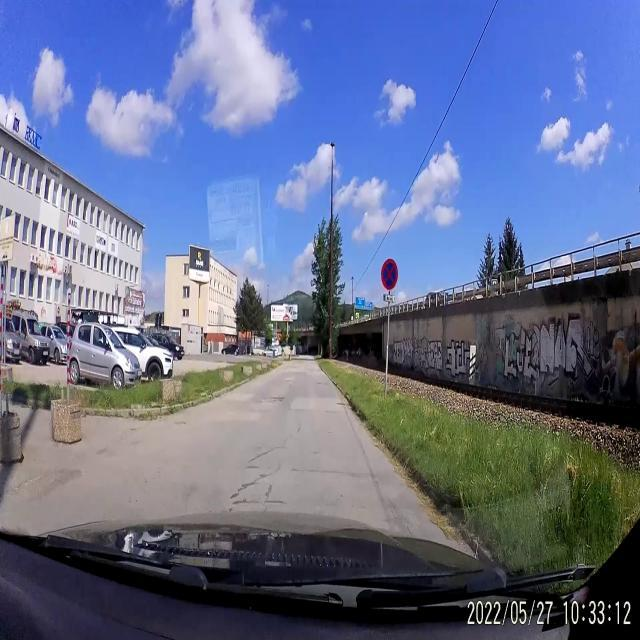Pothole: (258, 392, 288, 409)
